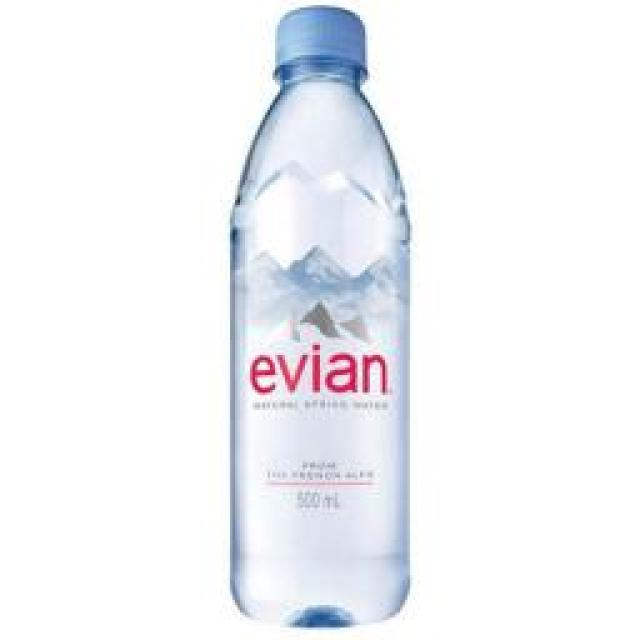bottle: (225, 4, 412, 629)
